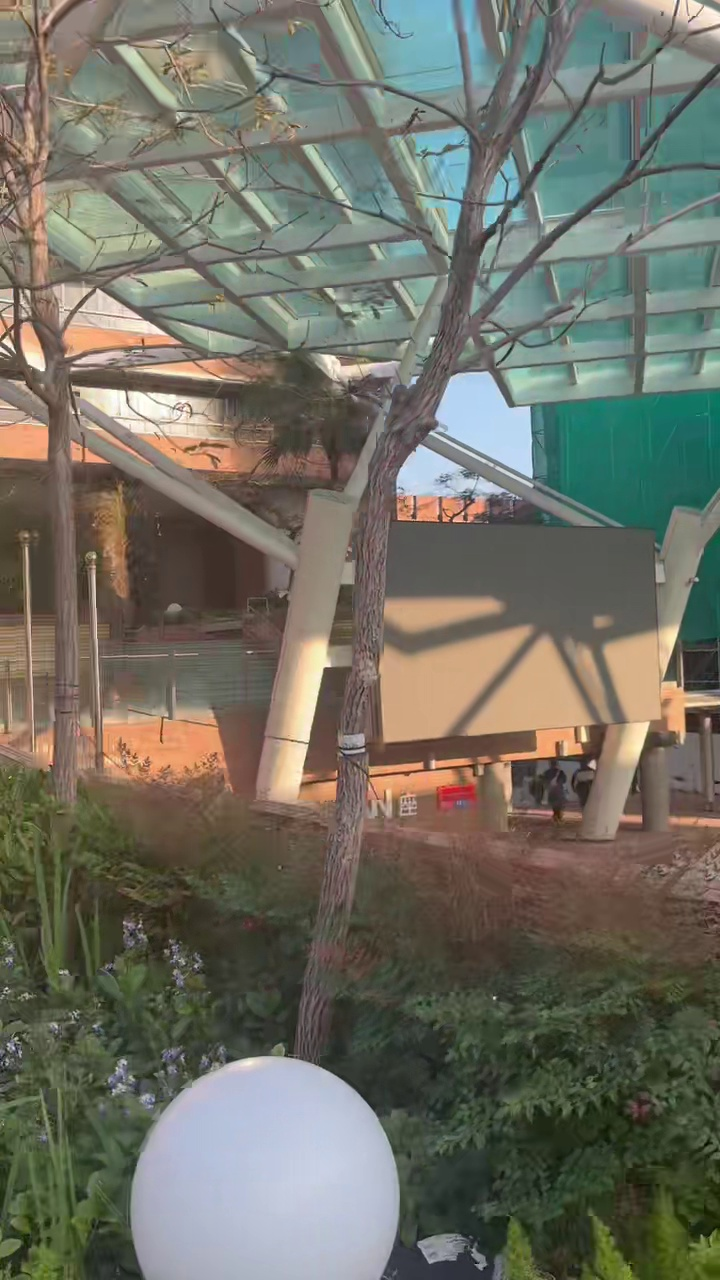Tabebuia chrysantha: (294, 0, 719, 1062)
